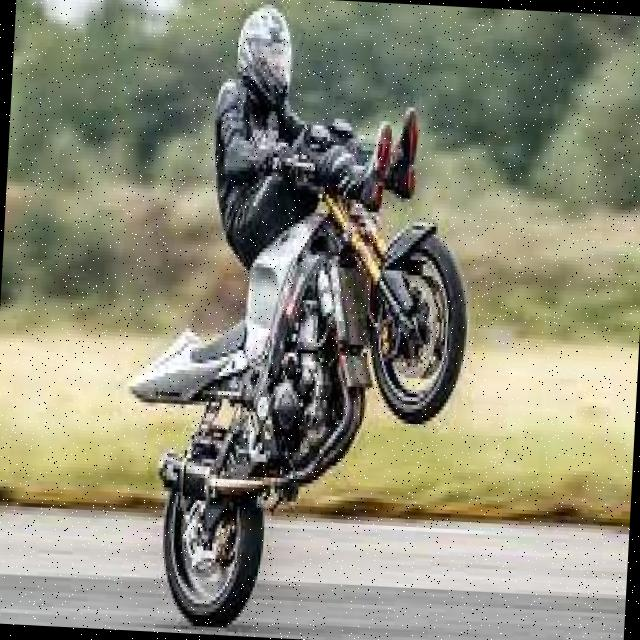Wheeling: (134, 9, 485, 640)
